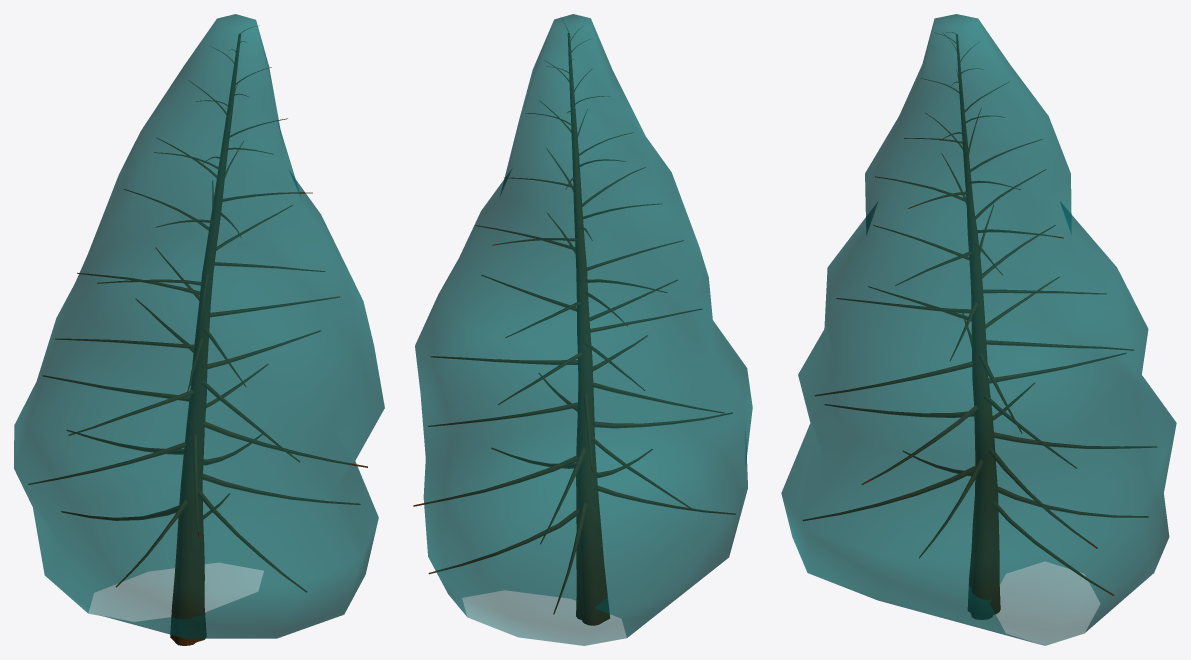
The model's file is tree.FBX.
3 renders of one model, left to right at view 1: azimuth 30°, elevation 25°; view 2: azimuth 150°, elevation 25°; view 3: azimuth 270°, elevation 25°, orthographic. The views are drawn at different scales.
Visible parts, largest first — view 1: Foliage002; view 2: Foliage002; view 3: Foliage002.
Part boxes in pixels (x1=…): Foliage002: x1=14, y1=14, x2=384, y2=645; Foliage002: x1=413, y1=14, x2=752, y2=645; Foliage002: x1=781, y1=14, x2=1176, y2=645.
Size of the model in its own units: 226 by 429 by 254.
